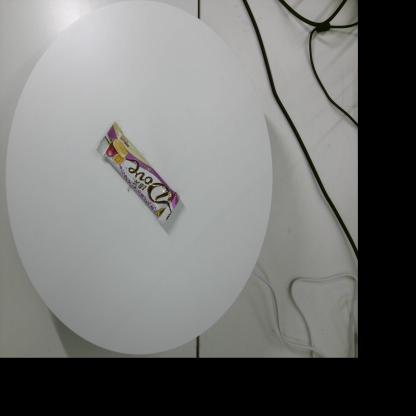Chocolate: (96, 121, 180, 226)
